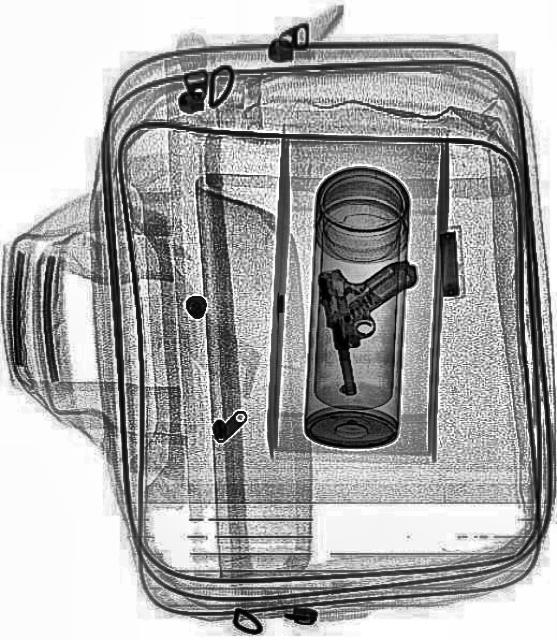Gun: (314, 256, 434, 398)
